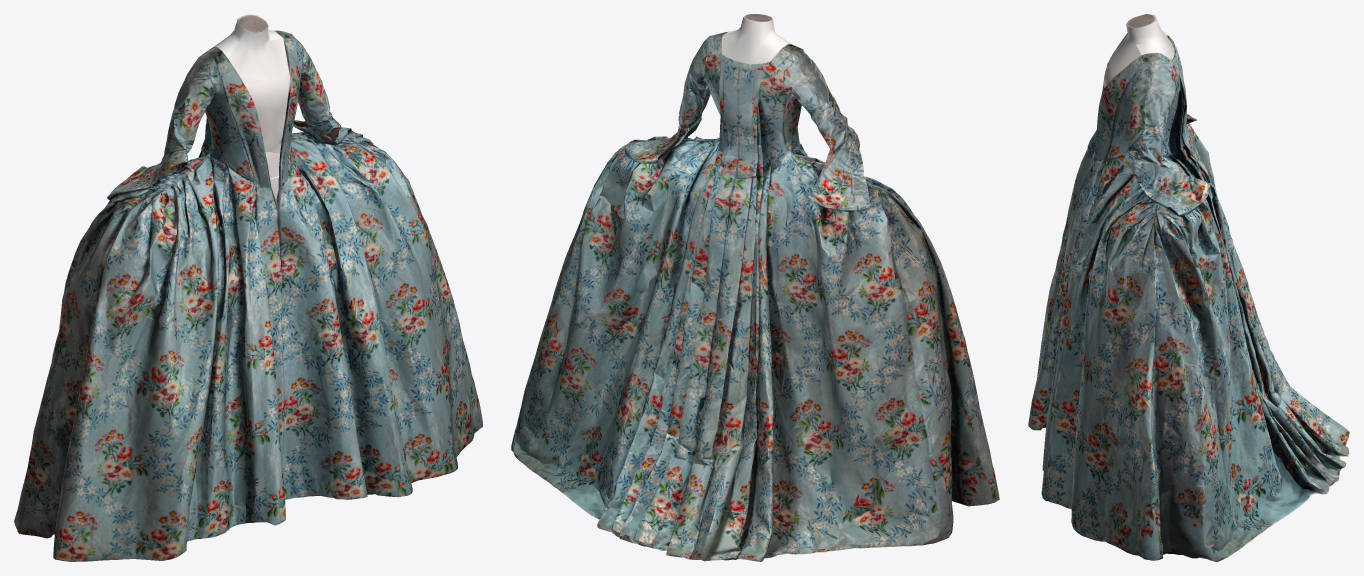
The model's file is robeFrancaise.glb.
3 views of the same model, side by side, from view 1: azimuth 30°, elevation 25°; view 2: azimuth 150°, elevation 25°; view 3: azimuth 270°, elevation 25° (orthographic). The views are drawn at different scales.
Parts seen in each view (by area): view 1: robe-francaise; view 2: robe-francaise; view 3: robe-francaise.
Part boxes in pixels (x1,y1,x2,y2): robe-francaise: (14, 14, 482, 561); robe-francaise: (511, 14, 999, 561); robe-francaise: (1028, 14, 1349, 561).
Bounding box in the file's own units: 2.87 × 2.84 × 1.85.
1 material, 1 textured.
